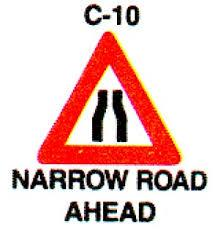narrow_road: (31, 30, 184, 165)
